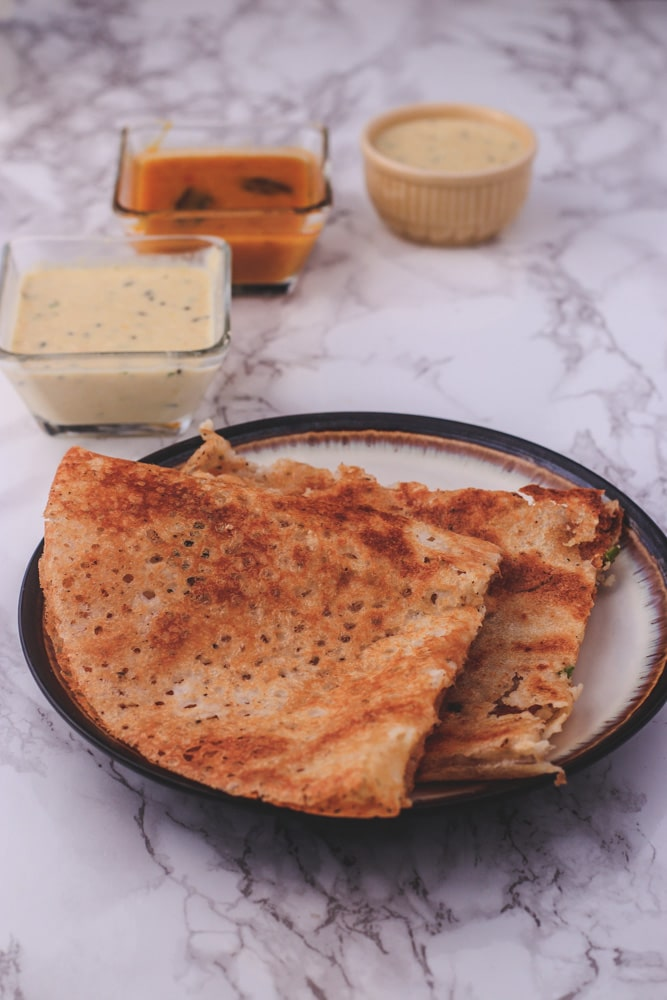dosa: (40, 431, 629, 823)
